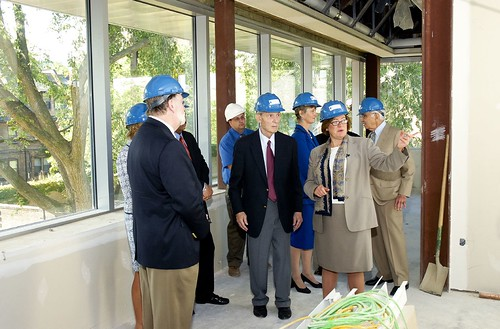person hardhat: (142, 75, 189, 125), (254, 91, 285, 134), (321, 99, 350, 141), (356, 97, 386, 131), (292, 92, 322, 125), (225, 101, 247, 131)
